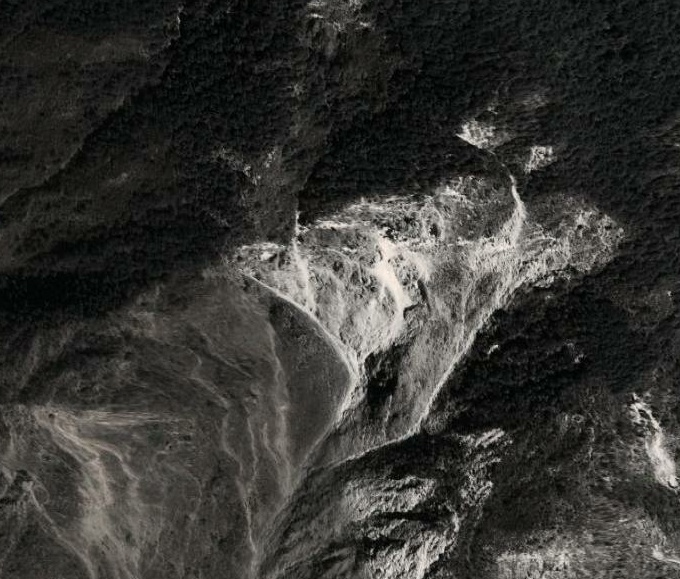slope: (231, 172, 628, 461), (24, 397, 202, 576), (628, 392, 677, 492), (458, 116, 507, 150), (522, 140, 559, 172)
